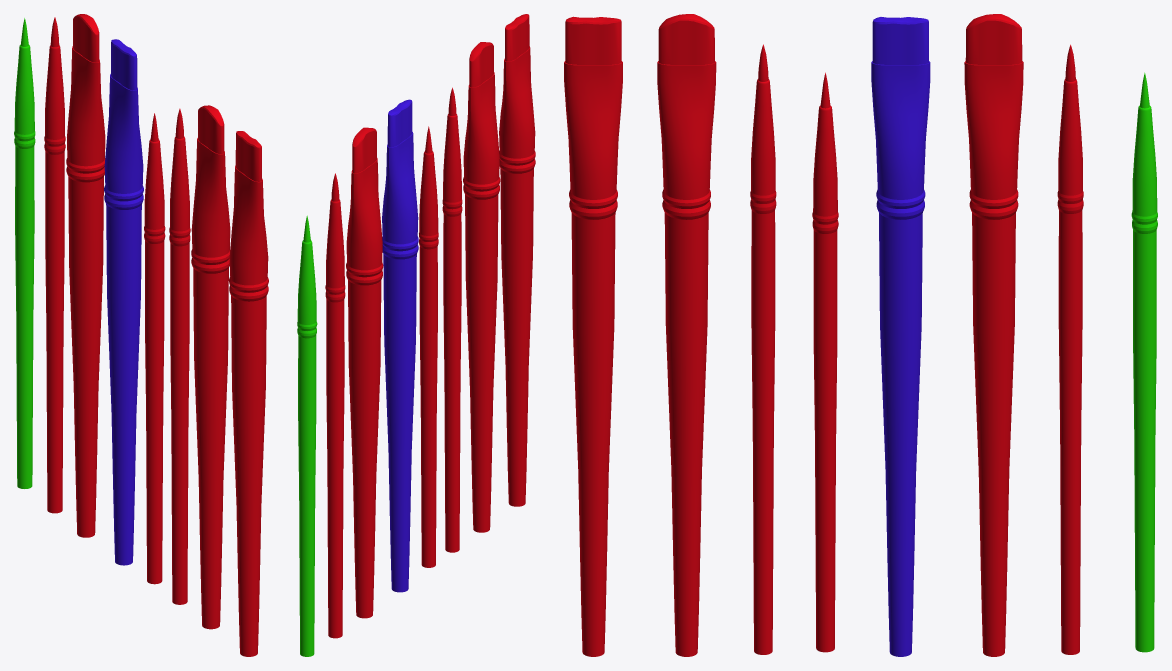
File: PaintBrush.fbx
3 views of the same model, side by side, from view 1: azimuth 30°, elevation 25°; view 2: azimuth 150°, elevation 25°; view 3: azimuth 270°, elevation 25° (orthographic). The views are drawn at different scales.
Visible parts, largest first — view 1: FlatStained, Flat, Filbert, FilbertStained, Round, RoundStained, Liner, LinerStained; view 2: FlatStained, Flat, Filbert, FilbertStained, Round, RoundStained, Liner, LinerStained; view 3: FlatStained, Flat, FilbertStained, Filbert, Round, RoundStained, Liner, LinerStained.
Part boxes in pixels (left/top/right/bottom): FlatStained: left=104, top=39, right=143, bottom=565; Flat: left=229, top=131, right=268, bottom=656; Filbert: left=191, top=105, right=230, bottom=629; FilbertStained: left=66, top=14, right=105, bottom=537; Round: left=169, top=108, right=190, bottom=604; RoundStained: left=44, top=17, right=65, bottom=513; Liner: left=144, top=113, right=165, bottom=584; LinerStained: left=14, top=18, right=35, bottom=488; FlatStained: left=382, top=99, right=418, bottom=592; Flat: left=499, top=14, right=535, bottom=506; Filbert: left=463, top=42, right=500, bottom=532; FilbertStained: left=346, top=127, right=383, bottom=618; Round: left=442, top=87, right=462, bottom=552; RoundStained: left=325, top=173, right=345, bottom=638; Liner: left=419, top=126, right=438, bottom=567; LinerStained: left=297, top=215, right=317, bottom=656; FlatStained: left=871, top=17, right=930, bottom=656; Flat: left=564, top=16, right=622, bottom=656; FilbertStained: left=964, top=14, right=1023, bottom=656; Filbert: left=657, top=14, right=716, bottom=656; Round: left=750, top=44, right=776, bottom=654; RoundStained: left=1057, top=44, right=1083, bottom=654; Liner: left=812, top=72, right=838, bottom=652; LinerStained: left=1131, top=72, right=1157, bottom=652.
Bounding box in the file's own units: 166 × 2378 × 2012.
